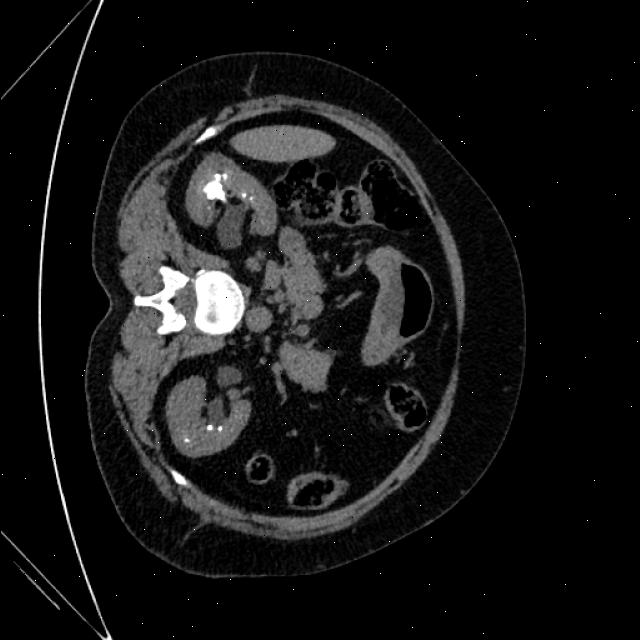kidneystone: (202, 174, 226, 202), (240, 192, 248, 199), (206, 424, 212, 431), (217, 426, 222, 431)
